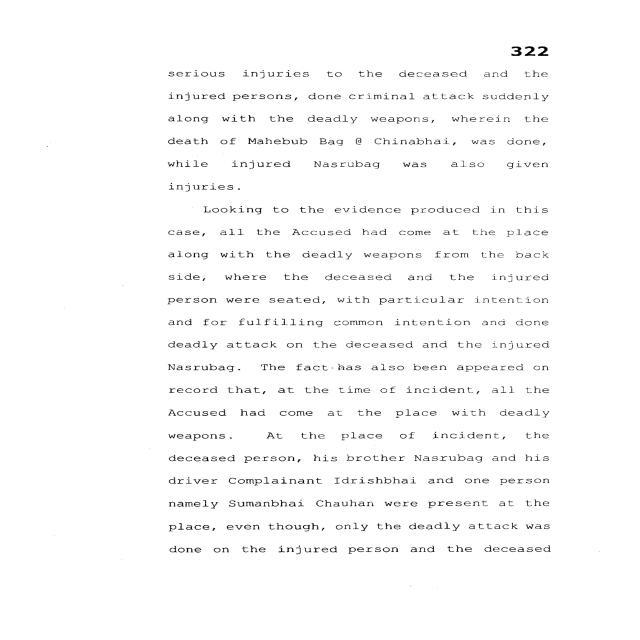page-number: (435, 1, 633, 62)
